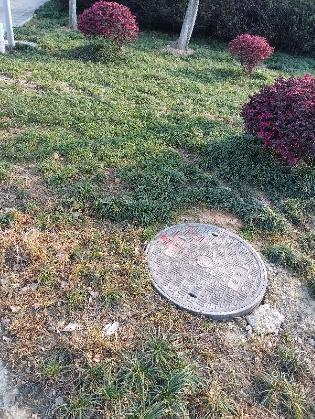wellcover: (142, 218, 268, 316)
